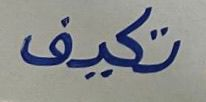character: (19, 14, 74, 76), (114, 4, 157, 75), (147, 25, 183, 77), (76, 40, 115, 81)
